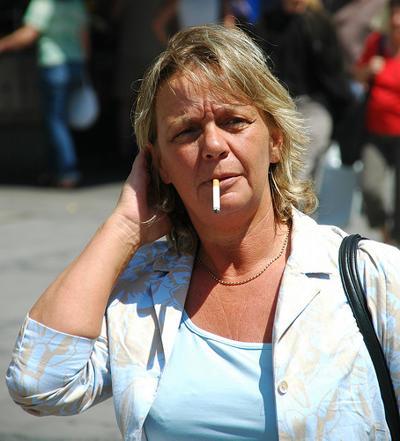person: (10, 22, 400, 438)
